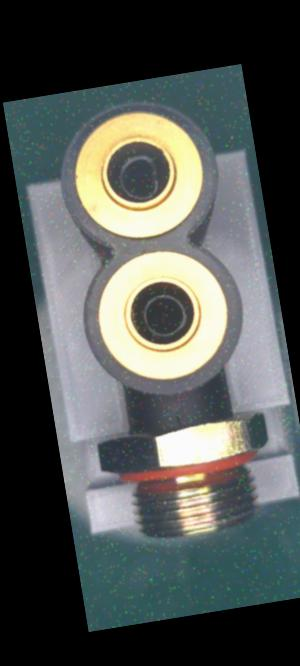craze: (169, 405, 190, 434)
off-centered: (108, 144, 168, 207)
